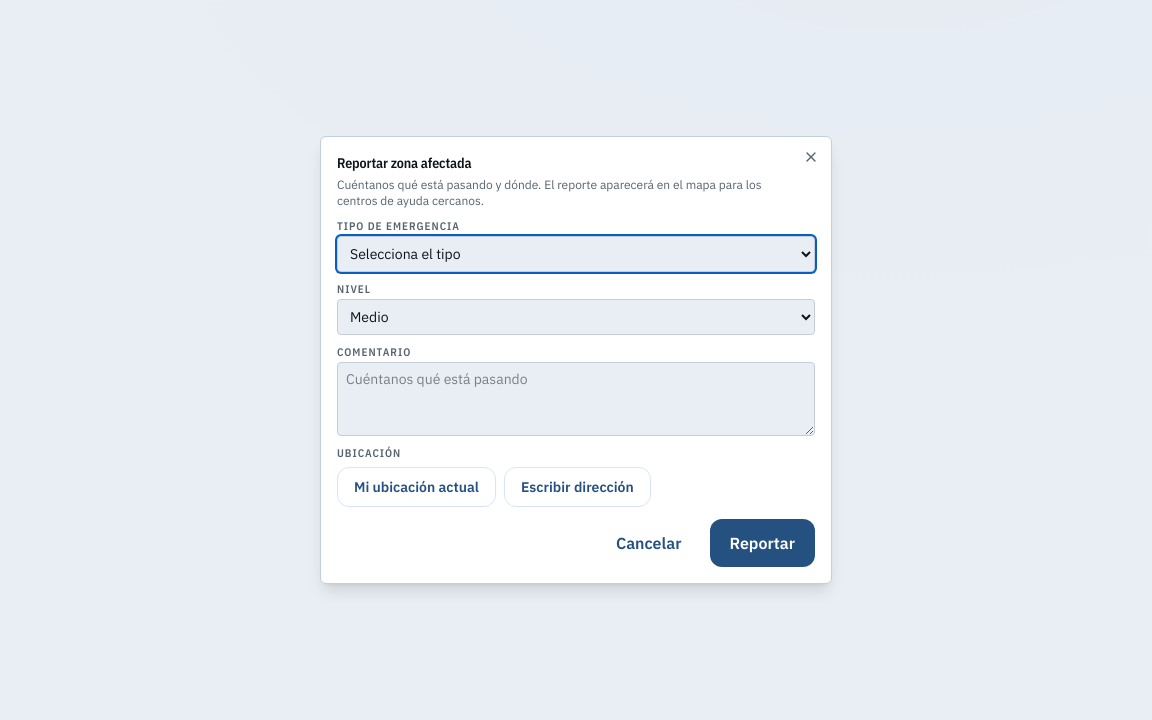
Test: CitizenReportDialog › blocks the submit when no emergency type was picked
In the text box labelled "Comentario": point(576, 399) [337,362,815,436], type "Derrumbe en Suba"
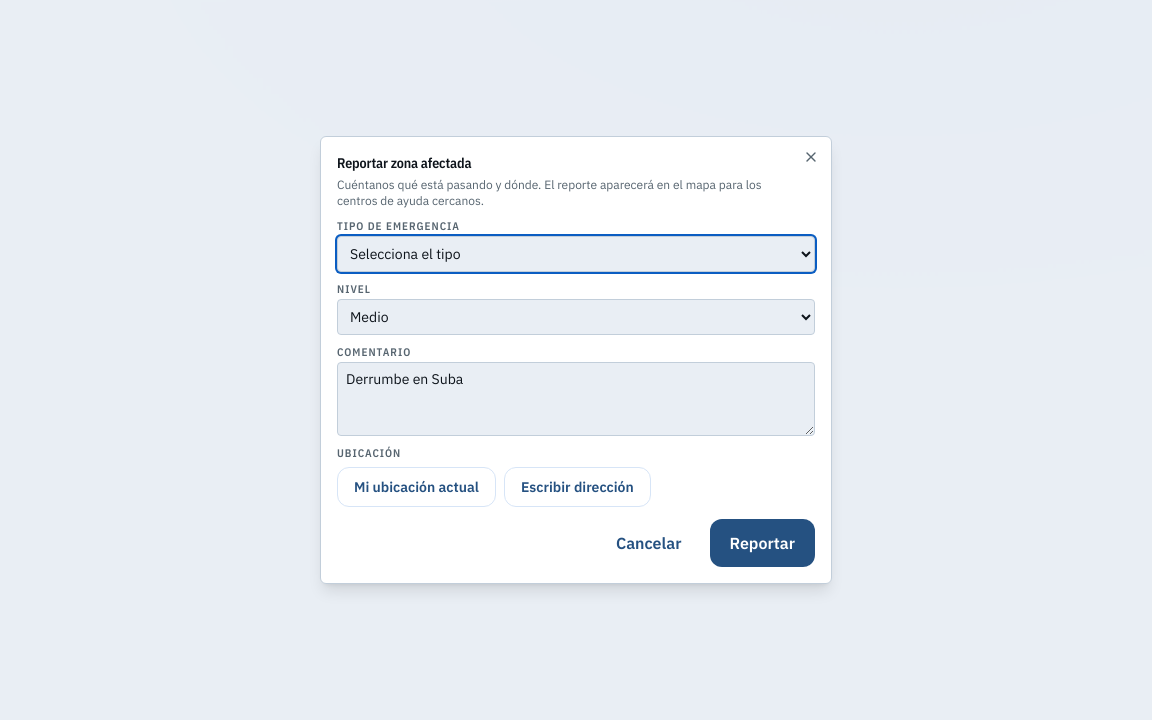
Click the button "Escribir dirección": point(577, 487) [504,467,651,507]
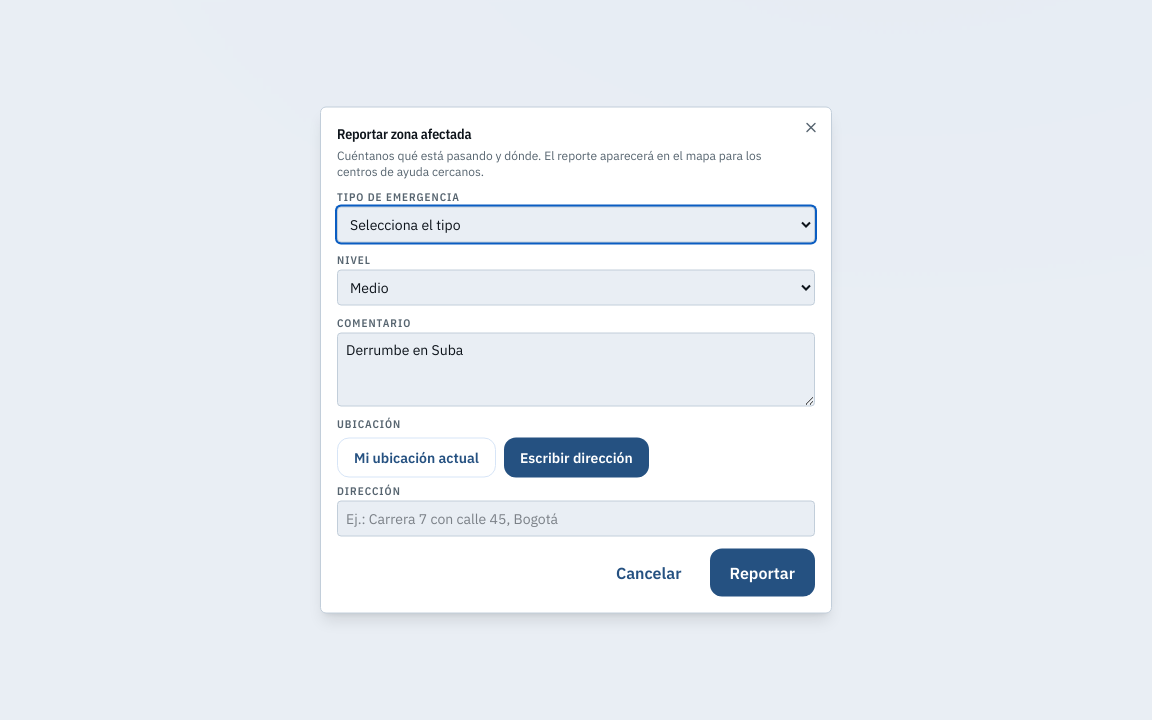
In the search field labelled "Dirección": point(576, 518) [337,500,815,536], type "Calle 145 Suba"
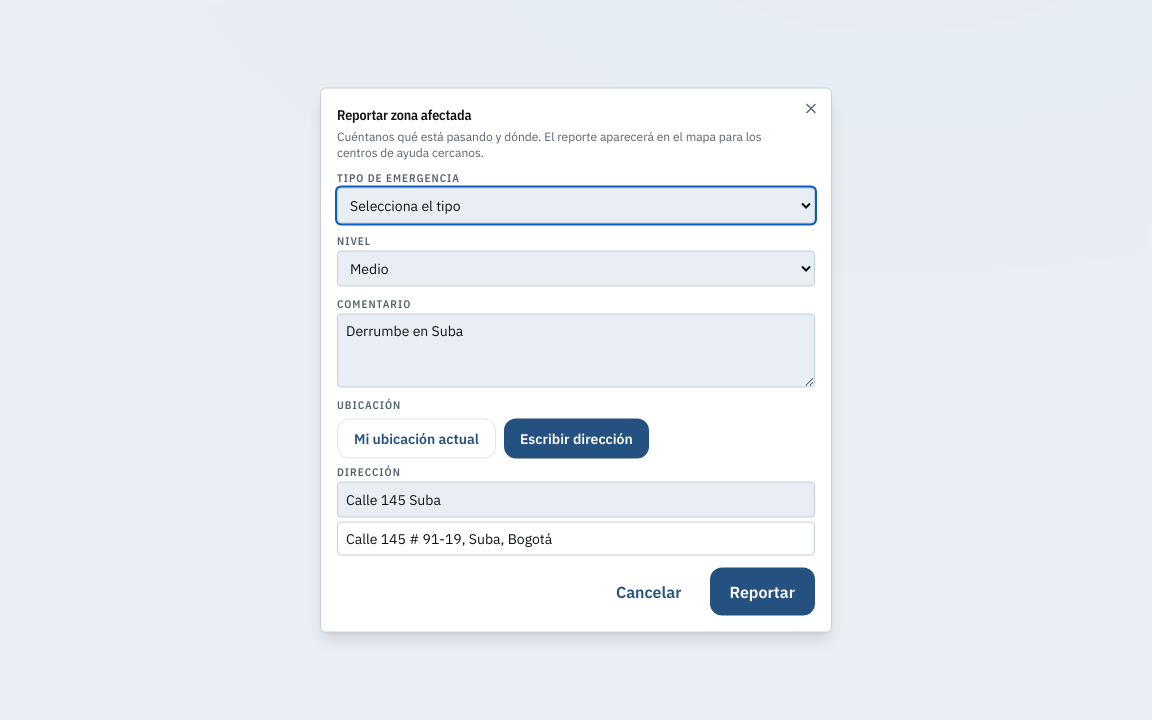
Click the button "Calle 145 # 91-19, Suba, Bogotá": point(449, 538) [338,522,814,554]
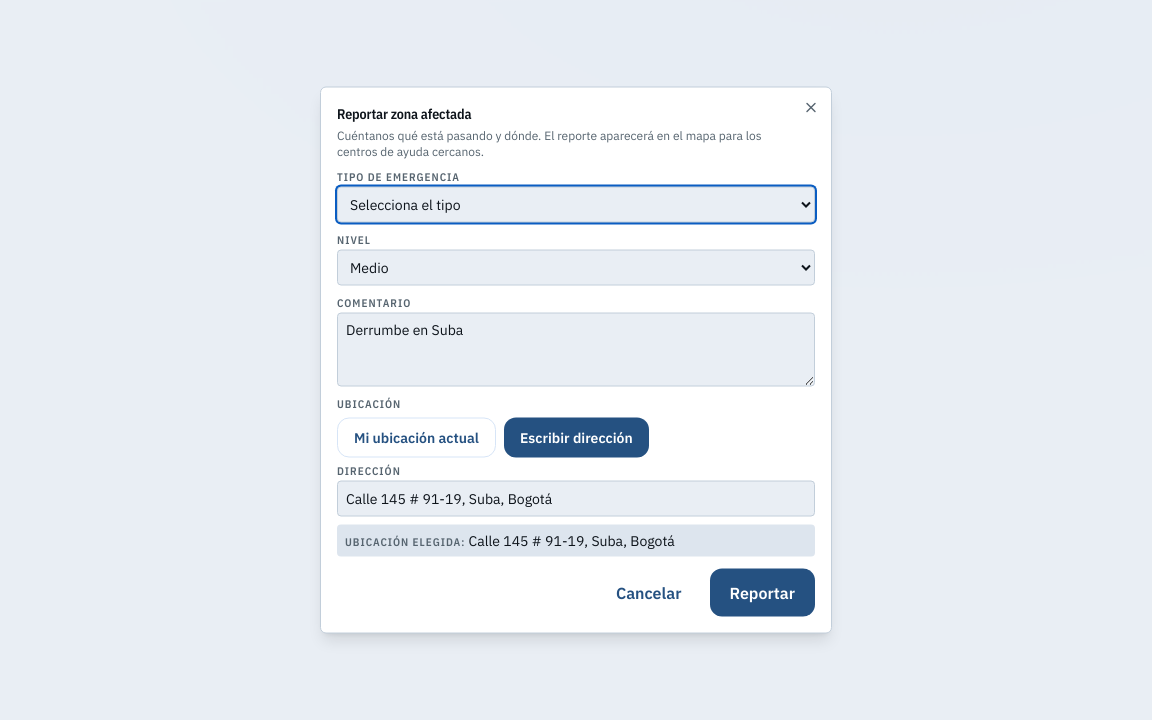
Click the button "Reportar": point(762, 592) [710,568,815,616]
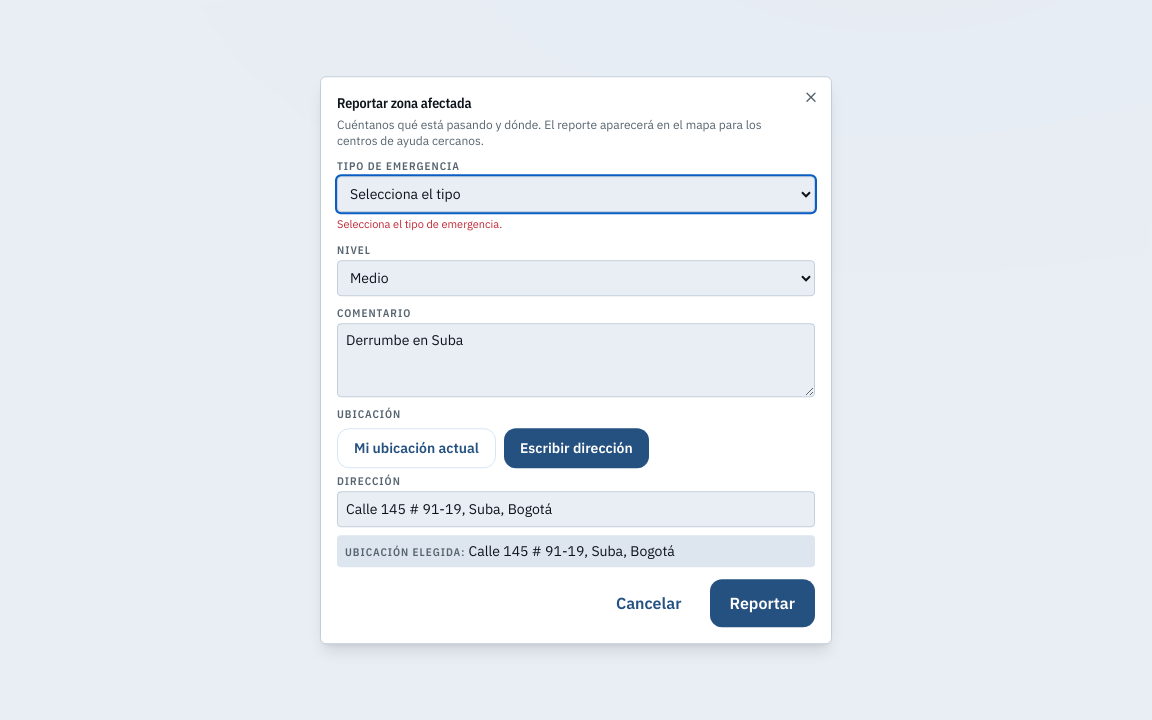
Result: the text "Selecciona el tipo de emergencia." is shown at [337,217,502,231]
